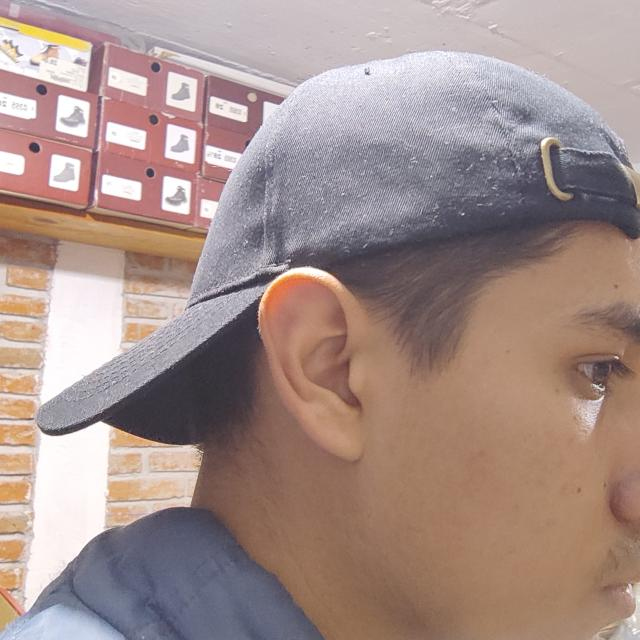ear: (259, 268, 386, 461)
